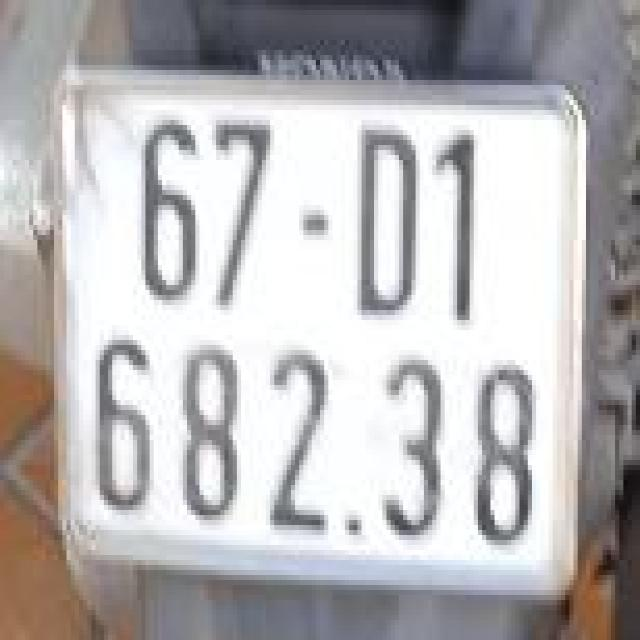1: (438, 118, 488, 338)
2: (272, 322, 339, 542)
3: (372, 340, 451, 545)
6: (85, 325, 160, 525), (135, 108, 206, 308)
7: (204, 105, 282, 315)
8: (464, 350, 546, 550), (168, 340, 248, 540)
D: (345, 105, 428, 335)
